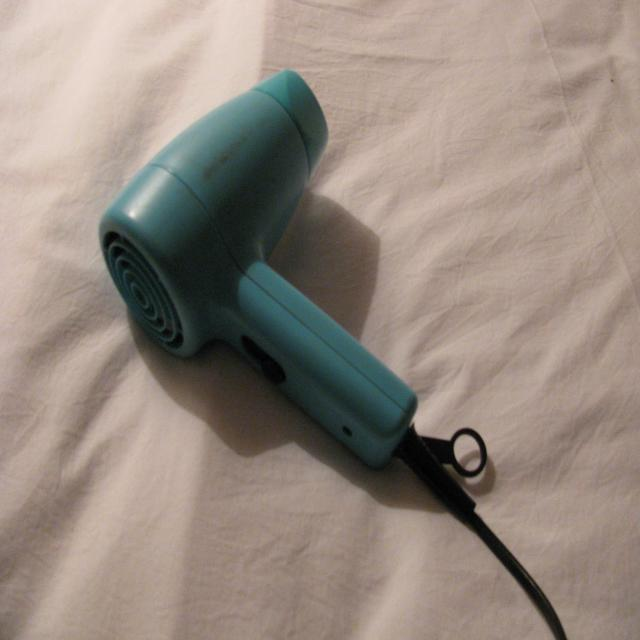dryer: (97, 66, 490, 524)
